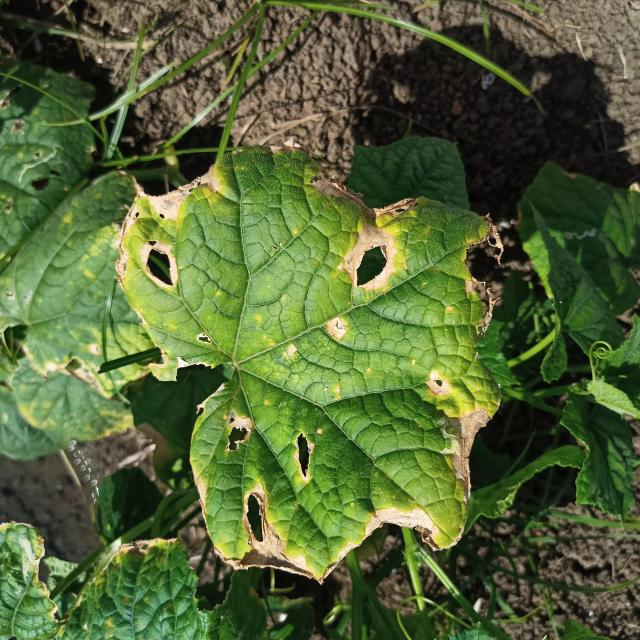disease_cucumber: (116, 143, 503, 570)
